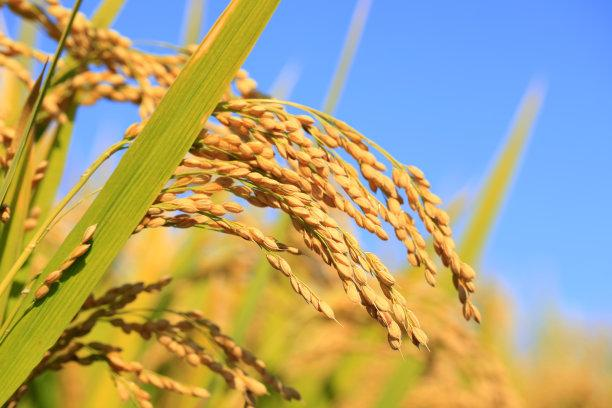rice: (52, 27, 493, 362)
